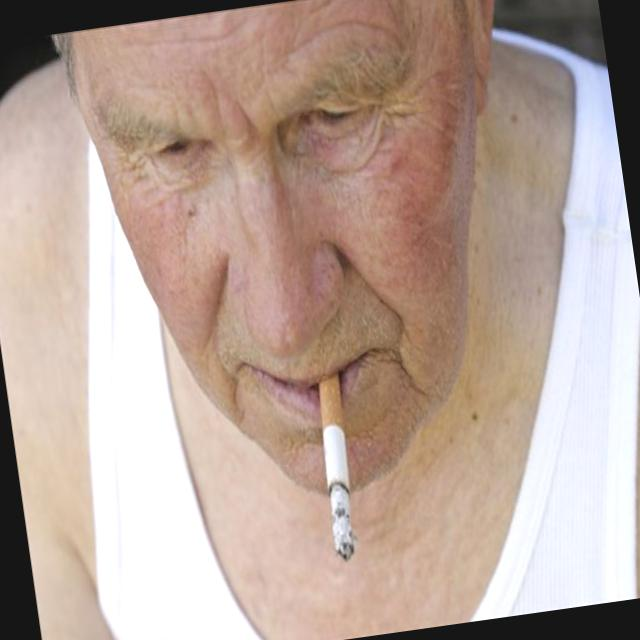cigarette: (294, 362, 370, 568)
